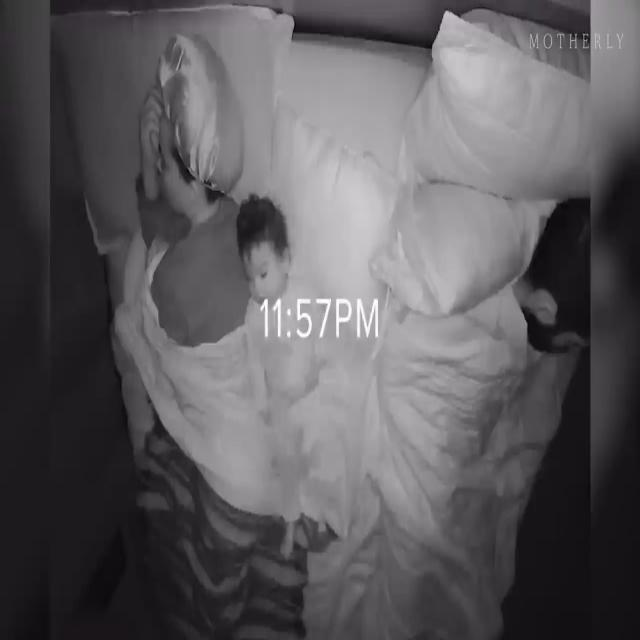baby: (236, 191, 319, 550)
